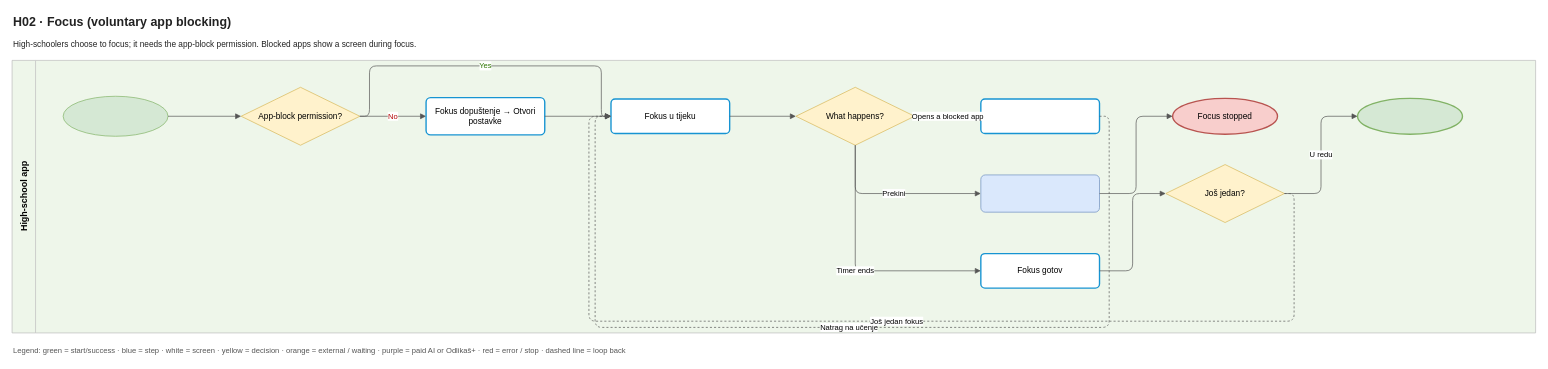
Some shapes in this 1548 by 369 pixel diagram are drawn without their labels. The shapes that lost their labels are listed below. From the top down, each one's box as (x1, y1, x2, y2) in pixels, then its label:
(62, 96, 168, 136): Fokus postavi (e.g. 45 min)
(980, 98, 1100, 134): Blokirana aplikacija
(1357, 97, 1463, 135): Srednja početna
(980, 174, 1100, 212): Prekini fokus (short wait first)
